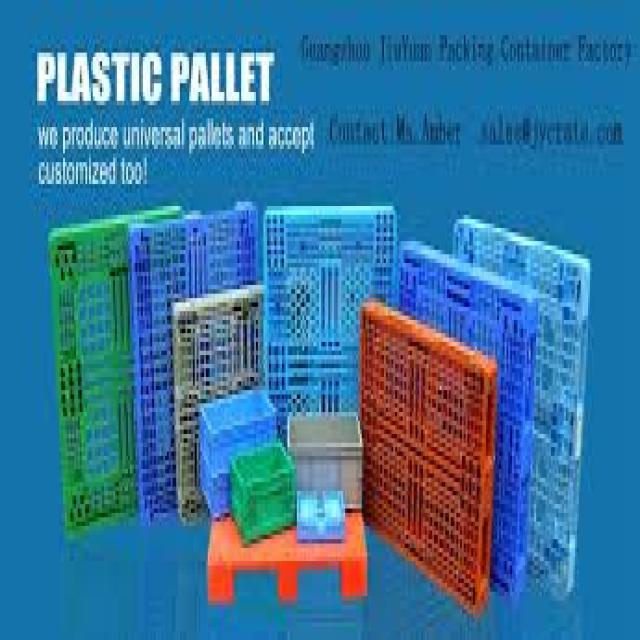basket: (200, 390, 276, 517), (220, 439, 309, 545), (289, 412, 364, 508)
